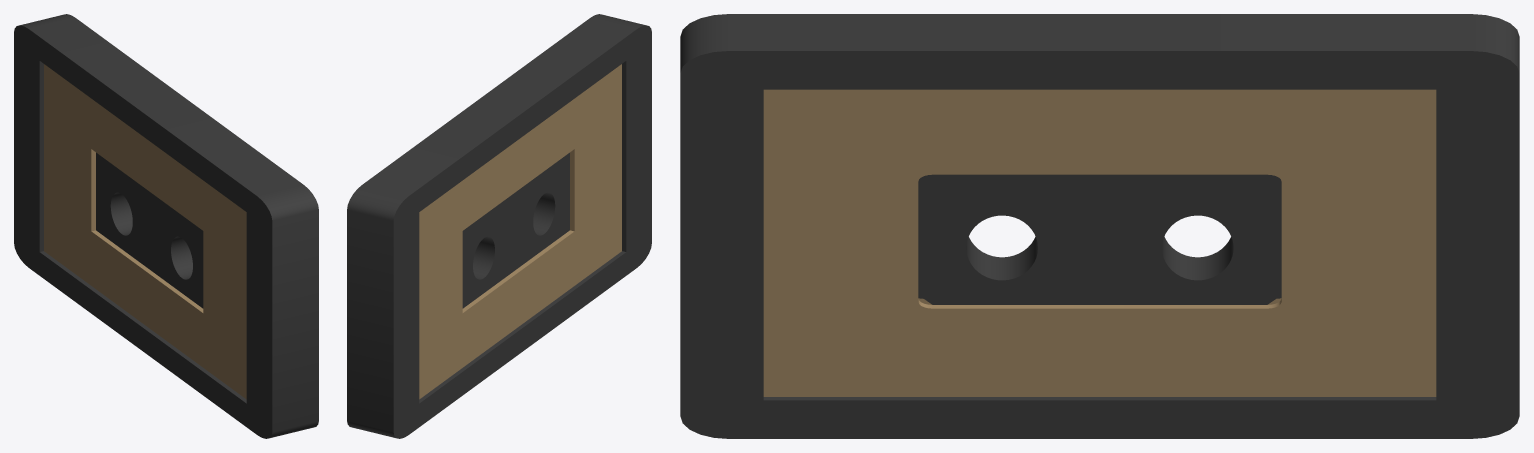
Rendered from Recordtape.fbx.
3 views of the same model, side by side, from view 1: azimuth 30°, elevation 25°; view 2: azimuth 150°, elevation 25°; view 3: azimuth 270°, elevation 25° (orthographic). The views are drawn at different scales.
Visible parts, largest first — view 1: Cube.001; view 2: Cube.001; view 3: Cube.001.
Boxes of the visible parts, bbox=[...] form: Cube.001: bbox=[14, 14, 318, 438]; Cube.001: bbox=[347, 14, 651, 438]; Cube.001: bbox=[680, 14, 1519, 438].
Bounding box in the file's own units: 0.1046 × 0.512 × 1.
